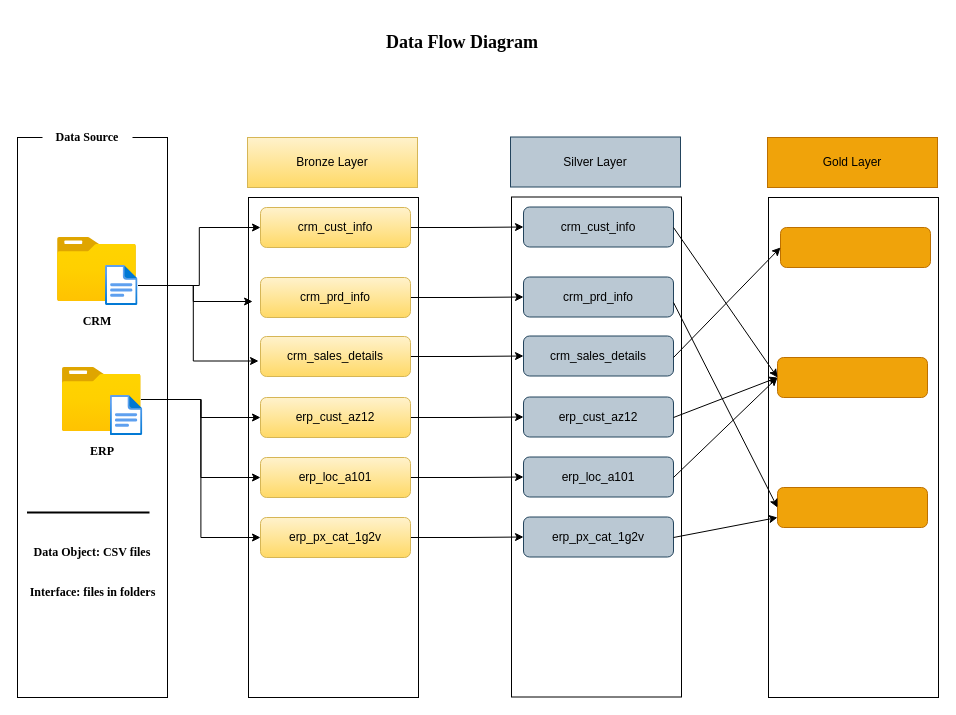
Image size: 956x715. Some labels were removed from this diagram. Each missing label, with the box of its shape:
dim_customers: (776, 356, 928, 398)
dim_products: (776, 486, 928, 528)
fact_sales: (780, 226, 930, 268)
